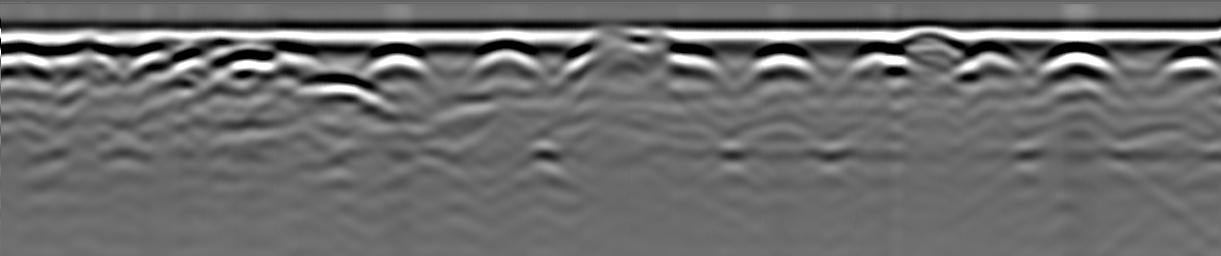pipe: (586, 27, 652, 55), (899, 25, 959, 49)
steel: (362, 49, 433, 83), (749, 47, 815, 83), (1045, 43, 1109, 80), (472, 43, 543, 76), (956, 46, 1024, 80), (843, 45, 913, 77), (665, 44, 718, 82)
